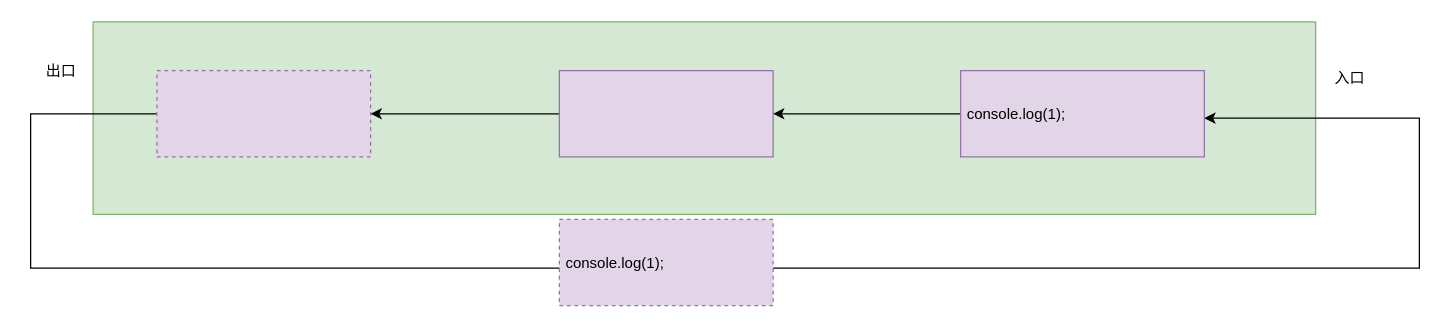
This 1451x328 diagram has some shape labels left out. Each missing label, with the centre of its shape:
console.log(2);: (665,113)
Promise.resolve().then(() => { console.log(1); }): (263,113)
